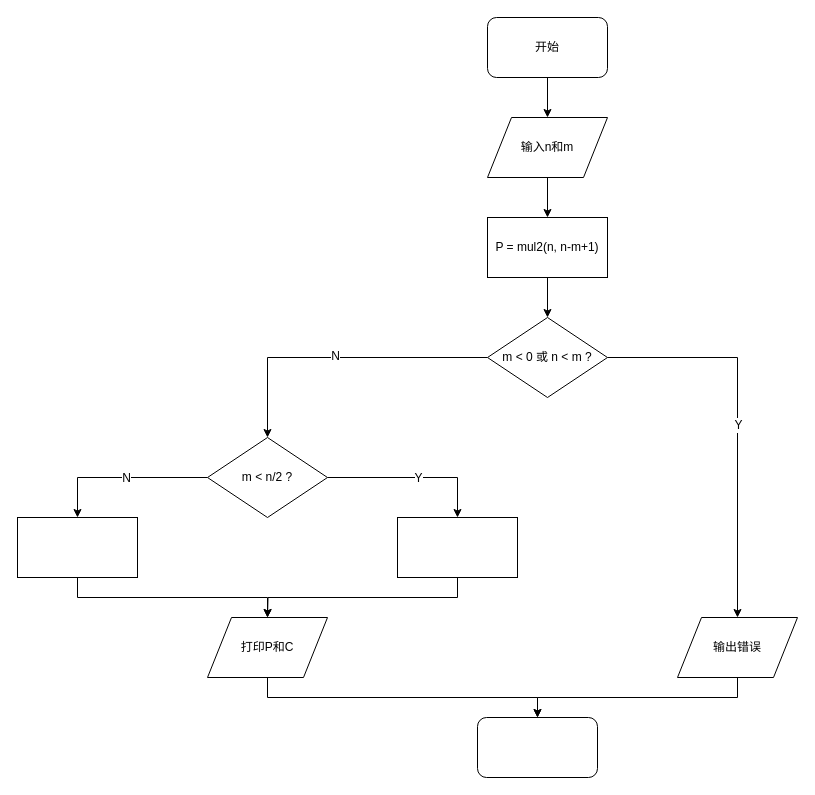
The diagram is 815 pixels wide and 795 high, and some of its shapes have lost their labels. Here are the shapes that lost their labels. From the top down, the centre of each, then its label:
point (77, 547): mul2(n, m+1) C = ----------------------- mul2(n-m, 1)
point (457, 547): mul2(n, n-m+1) C = ----------------------- mul2(m, 1)
point (537, 747): 结束
